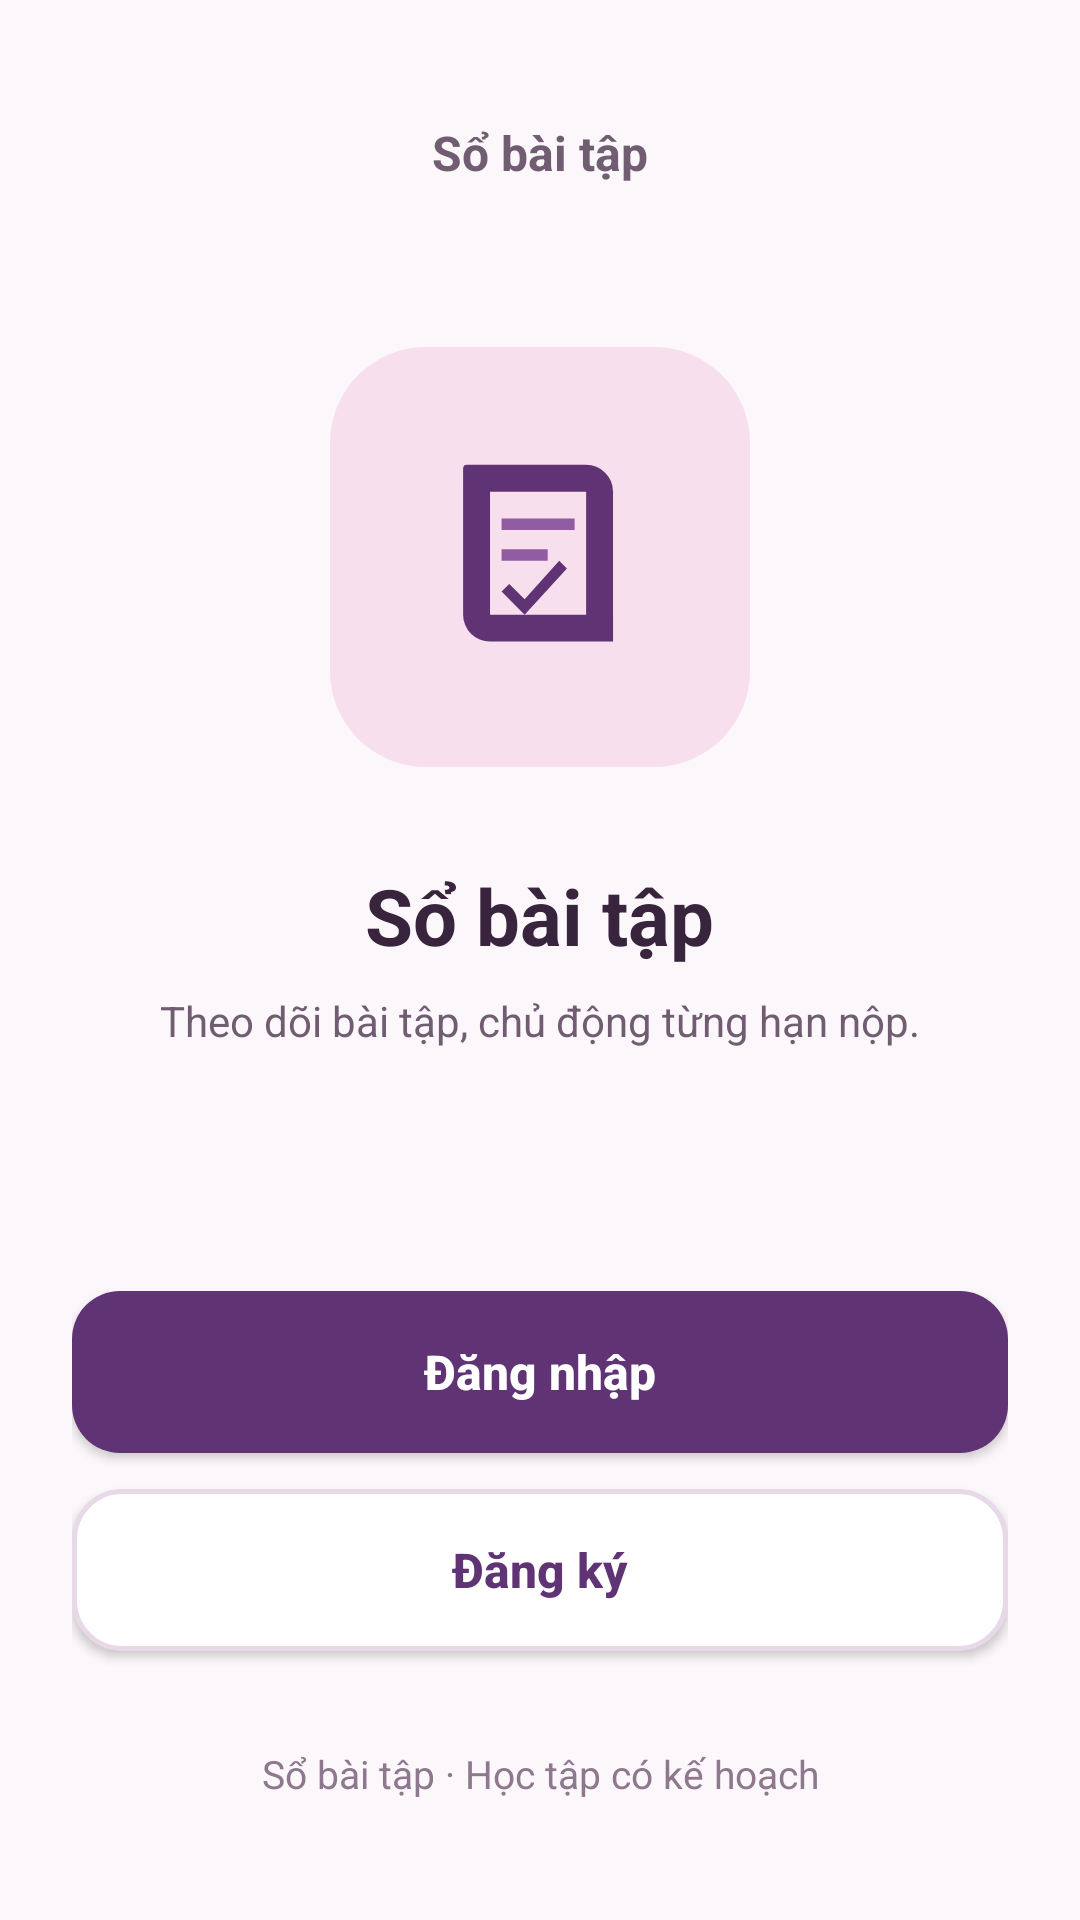

Icons on this 1080px x 1920px Android screen, each with its box as (x1, y1, x2, y2):
mark: (463, 464, 613, 642)
